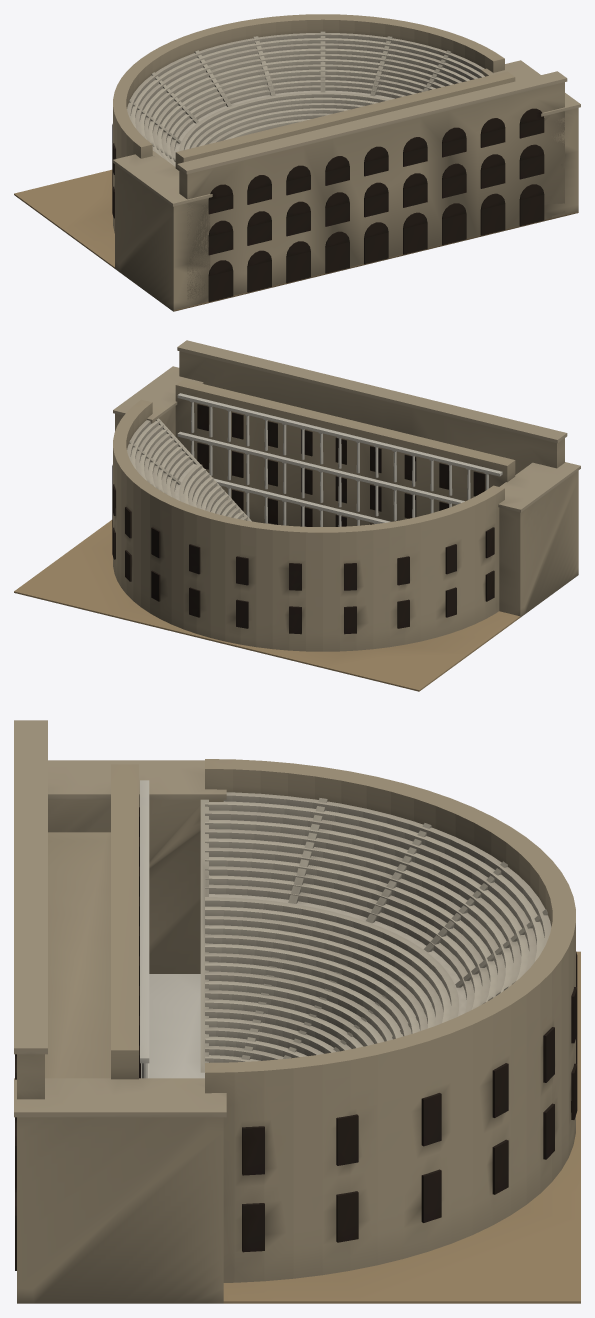
The model's file is odeon-herodes.glb.
The picture shows the model from 3 angles, top to bottom: view 1: azimuth 30°, elevation 25°; view 2: azimuth 150°, elevation 25°; view 3: azimuth 270°, elevation 25°; orthographic projection. The views are drawn at different scales.
Parts seen in each view (by area): view 1: p2_stage, p1_seats, p0_cavea; view 2: p0_cavea, p2_stage, p1_seats; view 3: p2_stage, p0_cavea, p1_seats.
Part boxes in pixels (x1=…): p2_stage: x1=113, y1=60, x2=580, y2=311; p1_seats: x1=112, y1=31, x2=493, y2=218; p0_cavea: x1=14, y1=14, x2=578, y2=311; p0_cavea: x1=14, y1=399, x2=520, y2=691; p2_stage: x1=113, y1=340, x2=580, y2=617; p1_seats: x1=112, y1=414, x2=494, y2=634; p2_stage: x1=14, y1=720, x2=226, y2=1303; p0_cavea: x1=205, y1=759, x2=580, y2=1303; p1_seats: x1=200, y1=792, x2=577, y2=1252.
Bounding box in the file's own units: 88.6 × 28.7 × 60.3.
